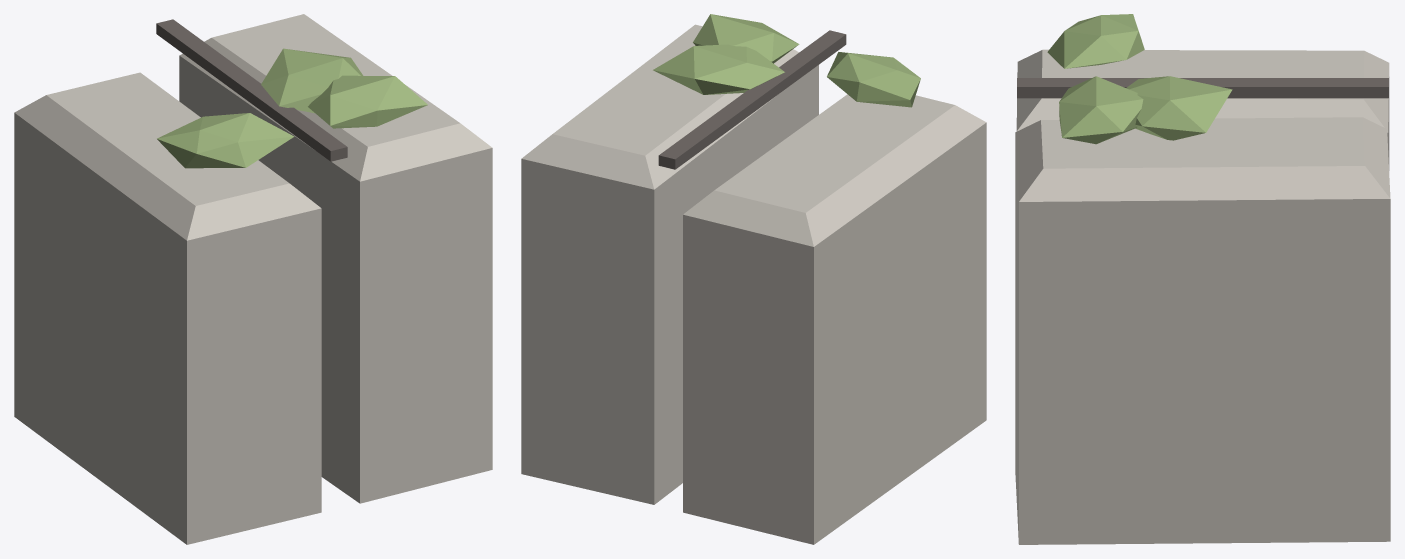
File: ob_stone2.glb
The picture shows the model from 3 angles, left to right: view 1: azimuth 30°, elevation 25°; view 2: azimuth 150°, elevation 25°; view 3: azimuth 270°, elevation 25°; orthographic projection. The views are drawn at different scales.
Size of the model in its own units: 0.0453 by 0.054 by 0.0451.
